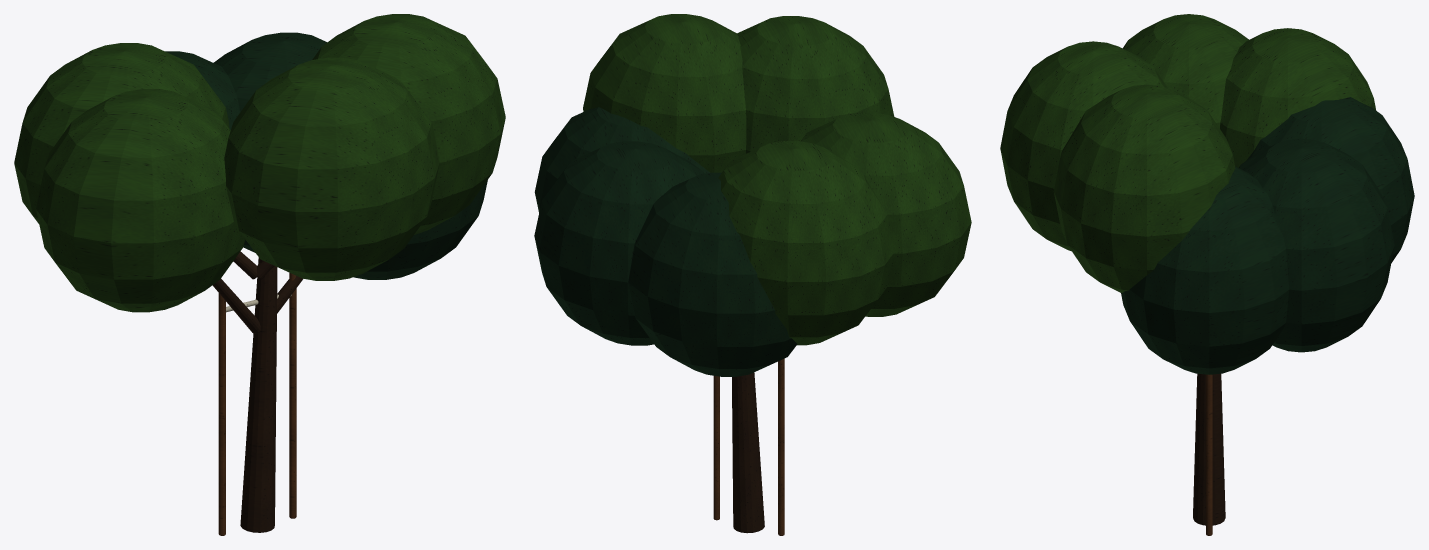
File: PROP-5451E45E3B44_lod0.glb
The picture shows the model from 3 angles, left to right: view 1: azimuth 30°, elevation 25°; view 2: azimuth 150°, elevation 25°; view 3: azimuth 270°, elevation 25°; orthographic projection. The views are drawn at different scales.
Visible parts, largest first — view 1: leaf_crown.015, leaf_crown.014, trunk.029, support_stake.001, branch.011; view 2: leaf_crown.015, leaf_crown.014, trunk.029, support_stake.001; view 3: leaf_crown.015, leaf_crown.014, trunk.029, support_stake.001.
Part boxes in pixels (<box>): leaf_crown.015: <box>14,14,505,312</box>; leaf_crown.014: <box>165,32,487,279</box>; trunk.029: <box>240,257,277,532</box>; support_stake.001: <box>218,272,296,535</box>; branch.011: <box>212,251,303,333</box>; leaf_crown.015: <box>583,14,971,345</box>; leaf_crown.014: <box>534,107,797,376</box>; trunk.029: <box>732,372,764,533</box>; support_stake.001: <box>713,358,784,535</box>; leaf_crown.015: <box>1000,14,1376,293</box>; leaf_crown.014: <box>1121,97,1414,374</box>; trunk.029: <box>1193,373,1225,525</box>; support_stake.001: <box>1206,374,1212,535</box>.
Bounding box in the file's own units: 3.52 × 3.81 × 3.03.
Materials: 5 (5 with a texture image).
